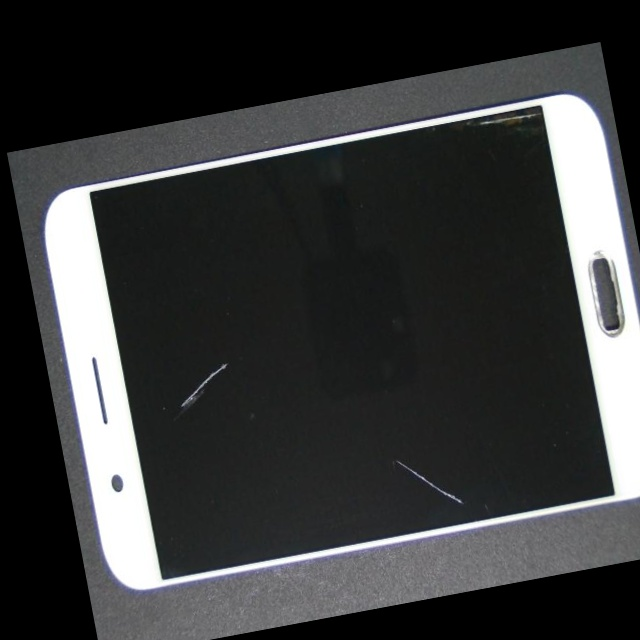scratch: (287, 292, 640, 616), (155, 183, 314, 475)
